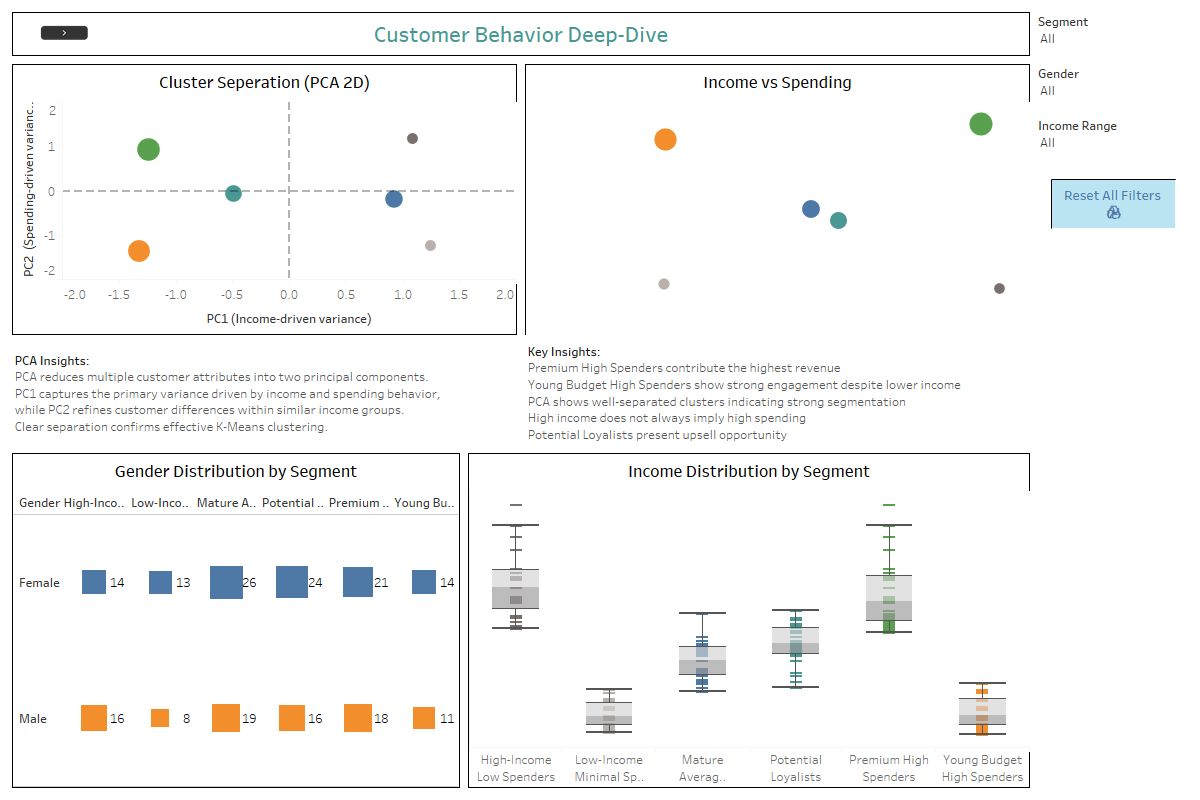

What the dashboard file says about the page in this screenshot:
{"tool":"tableau","page":{"name":"Customer Behavior","canvas":[1200,800],"ordinal":0},"visuals":[{"type":"title","box":[8,8,1026,52]},{"type":"filter","title":"Gender Distribution","param":"[federated.1wh77w81mrjw7s15hlmr905pv0ge].[none:Segment:nk]","box":[1034,8,158,52]},{"type":"dashboard-object","box":[40,14,48,38]},{"type":"worksheet","title":"PCA 2D Cluster","mark":"Circle","rows":["PC2"],"cols":["PC1"],"box":[8,60,513,279]},{"type":"worksheet","title":"Income vs Spending","mark":"Circle","rows":["Spending Score (1-100)"],"cols":["Annual Income (k$)"],"box":[521,60,513,279]},{"type":"filter","title":"Gender Distribution","param":"[federated.1wh77w81mrjw7s15hlmr905pv0ge].[none:Gender:nk]","box":[1034,60,158,52]},{"type":"filter","title":"Gender Distribution","param":"[federated.1wh77w81mrjw7s15hlmr905pv0ge].[none:Calculation_907756817539915779:nk","box":[1034,112,158,52]},{"type":"worksheet","title":"Reset Button","mark":"Automatic","box":[1051,179,125,50]},{"type":"text","box":[8,339,513,110]},{"type":"text","box":[521,339,513,110]},{"type":"worksheet","title":"Gender Distribution","mark":"Automatic","rows":["Gender"],"cols":["Segment"],"box":[8,449,456.1,343]},{"type":"worksheet","title":"Income Distribution","mark":"Automatic","rows":["Annual Income (k$)"],"cols":["Segment"],"box":[464.1,449,569.9,343]}]}

Visuals, with their boxes in screenshot pixels (x1, y1, x2, y2), scaled from the page's 1200x800 canvas onto the 1200x800 screenshot:
title: bbox(8, 8, 1034, 60)
"Gender Distribution" filter: bbox(1034, 8, 1192, 60)
dashboard-object: bbox(40, 14, 88, 52)
"PCA 2D Cluster" worksheet (Circle marks): bbox(8, 60, 521, 339)
"Income vs Spending" worksheet (Circle marks): bbox(521, 60, 1034, 339)
"Gender Distribution" filter: bbox(1034, 60, 1192, 112)
"Gender Distribution" filter: bbox(1034, 112, 1192, 164)
"Reset Button" worksheet: bbox(1051, 179, 1176, 229)
text: bbox(8, 339, 521, 449)
text: bbox(521, 339, 1034, 449)
"Gender Distribution" worksheet: bbox(8, 449, 464, 792)
"Income Distribution" worksheet: bbox(464, 449, 1034, 792)
